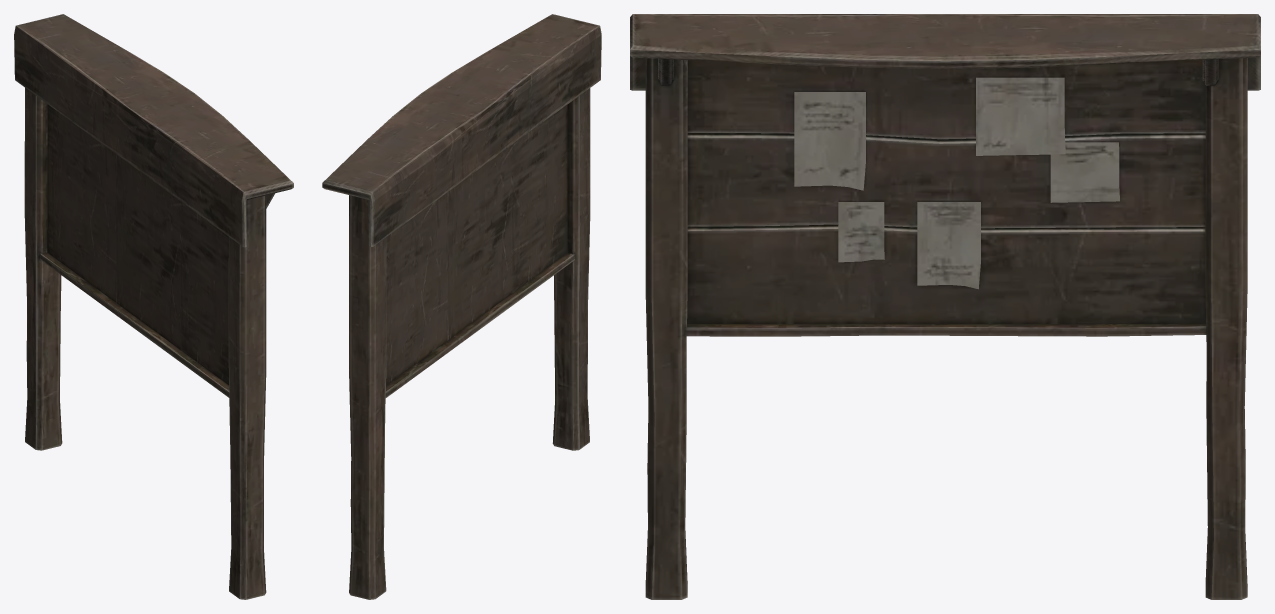
Rendered from board.glb.
The picture shows the model from 3 angles, left to right: view 1: azimuth 30°, elevation 25°; view 2: azimuth 150°, elevation 25°; view 3: azimuth 270°, elevation 25°; orthographic projection. The views are drawn at different scales.
Visible parts, largest first — view 1: Cube__0; view 2: Cube__0; view 3: Cube__0.
Boxes of the visible parts, <box> form: Cube__0: <box>14,14,293,599</box>; Cube__0: <box>322,14,601,599</box>; Cube__0: <box>630,14,1260,599</box>.
Size of the model in its own units: 0.4733 by 2.73 by 2.76.
Materials: 1 (1 with a texture image).
